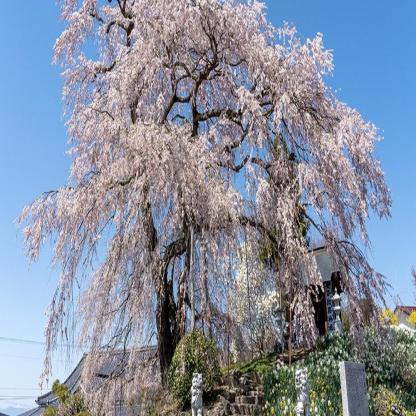Someiyoshino: (18, 5, 399, 409)
